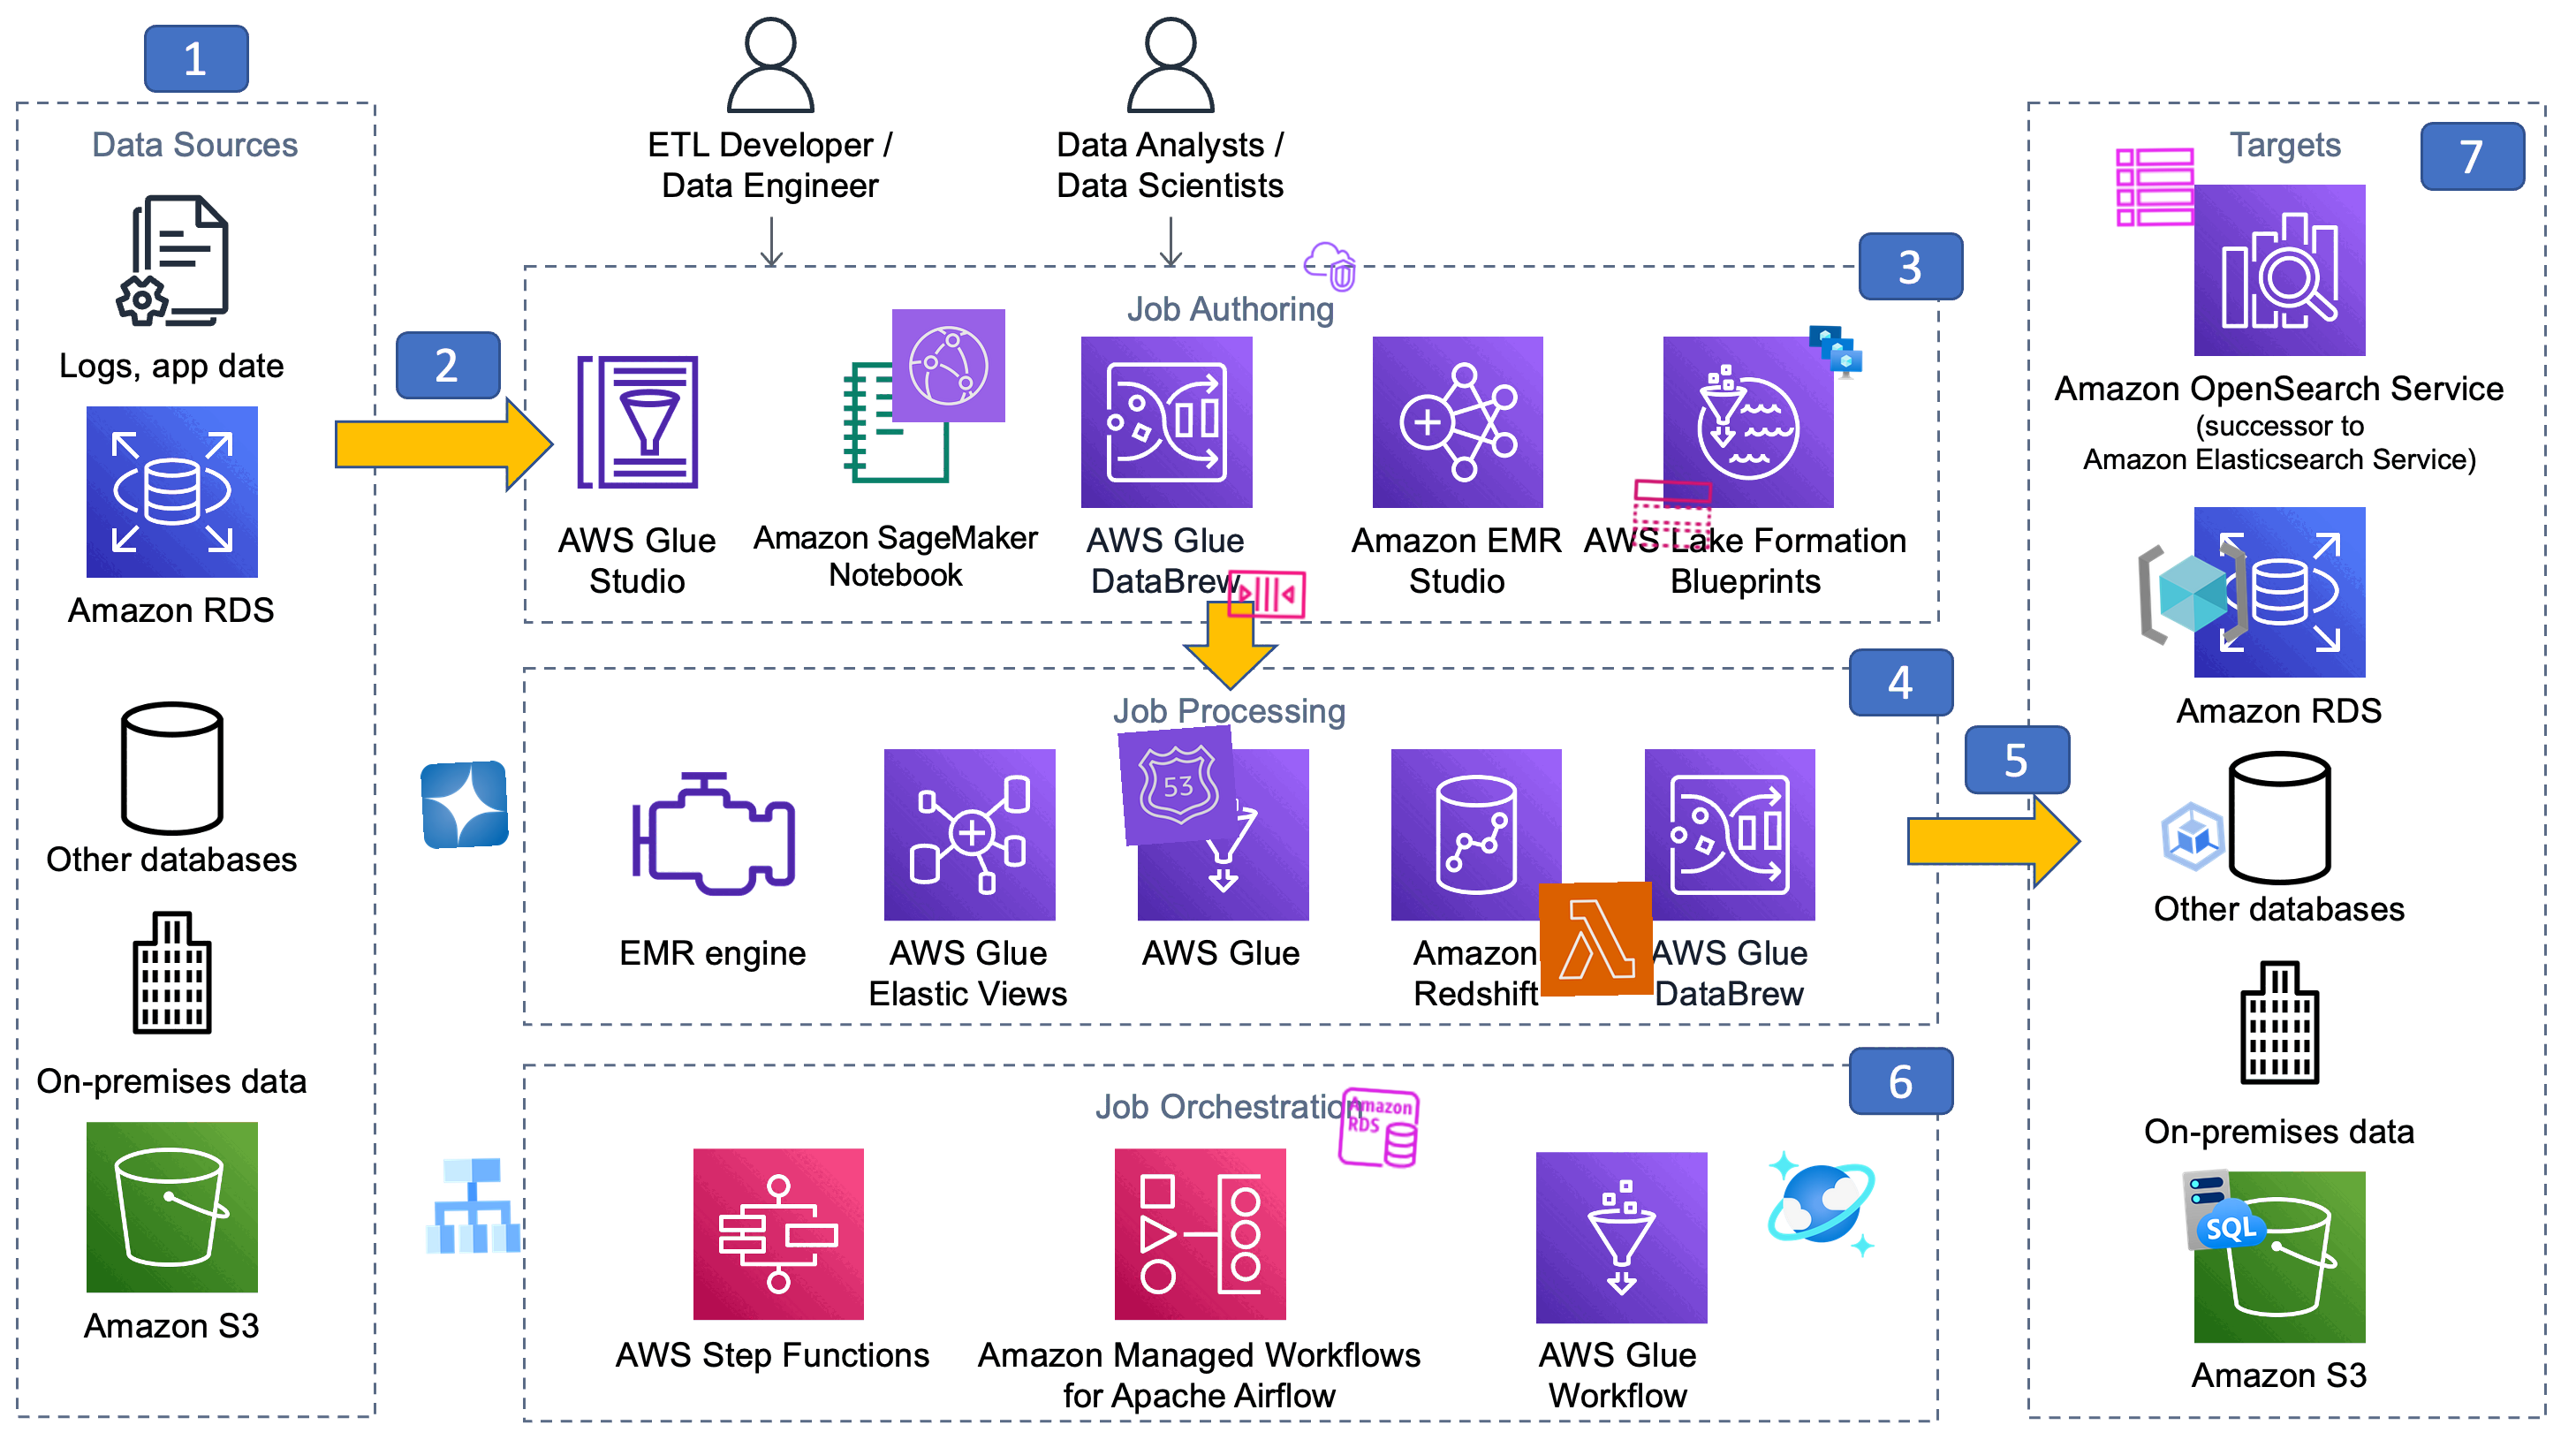aws_amazon_cloudfront: (892, 308, 1007, 423)
aws_amazon_route_53: (1118, 724, 1240, 846)
aws_aurora_amazon_rds_instance: (1332, 1083, 1424, 1175)
aws_dynamodb_table: (2112, 143, 2199, 230)
aws_lambda: (1537, 881, 1654, 998)
aws_simple_notification_service_topic: (1628, 471, 1716, 559)
aws_simple_queue_service_queue: (1223, 550, 1311, 639)
aws_vpc_virtual_private_cloud_vpc: (1299, 237, 1359, 297)
azure_cosmos_db: (1764, 1146, 1879, 1261)
azure_openai: (419, 759, 510, 849)
azure_resource_groups: (2134, 534, 2252, 653)
azure_sql_managed_instance: (2180, 1162, 2272, 1254)
azure_vm_scale_sets: (1806, 322, 1865, 380)
gcp_cloud_load_balancing: (414, 1148, 531, 1265)
gcp_google_kubernetes_engine: (2148, 791, 2240, 883)
